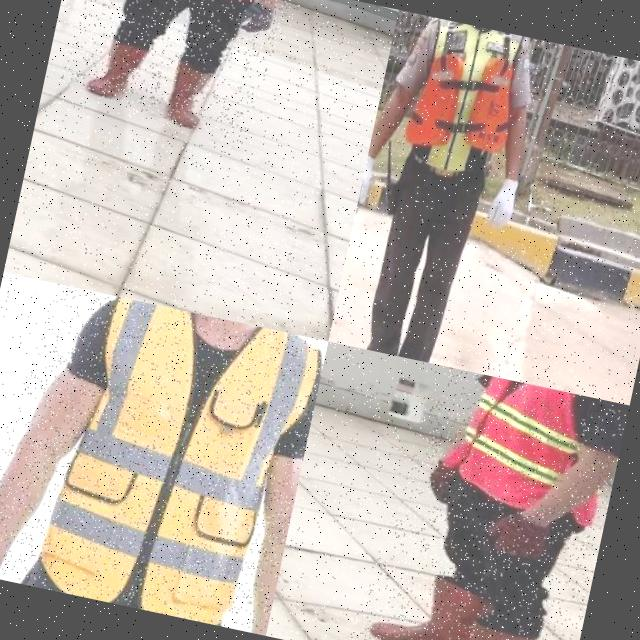boots: (367, 559, 502, 640), (405, 598, 536, 640), (84, 32, 149, 108), (156, 56, 219, 132)
vest: (11, 288, 328, 636), (437, 370, 629, 530), (382, 13, 545, 199)
